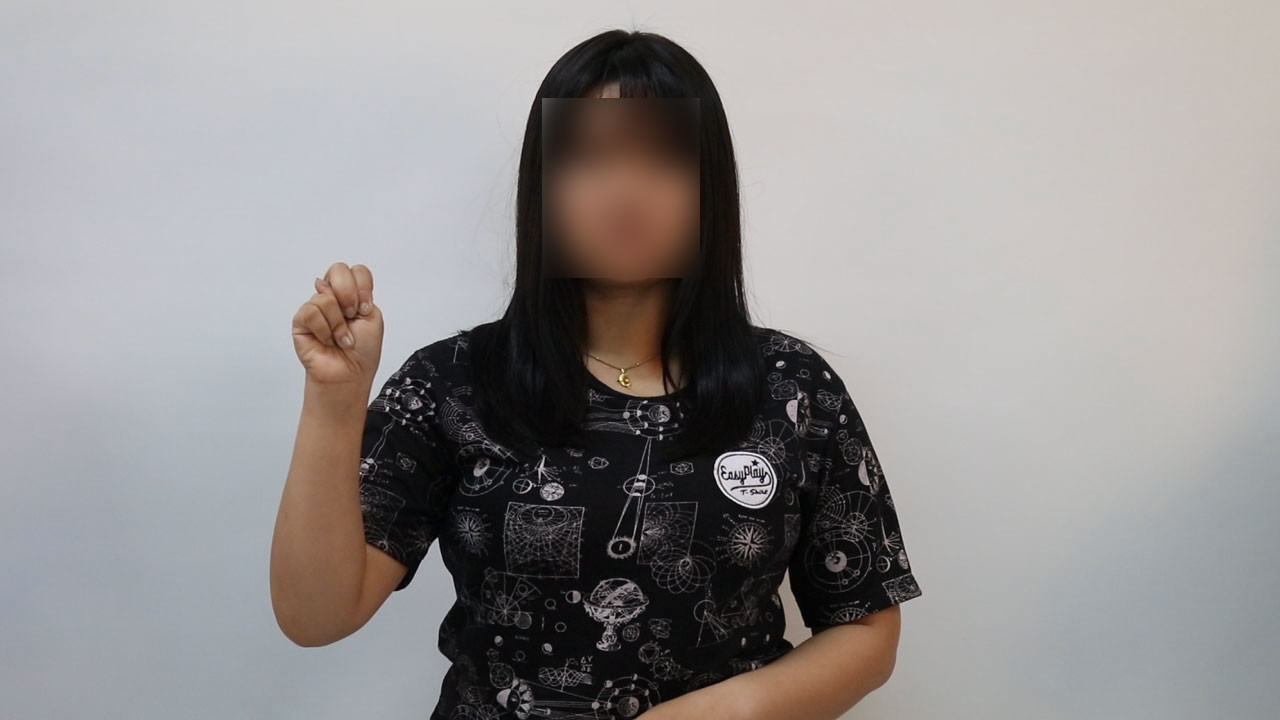nor: (286, 244, 402, 399)
